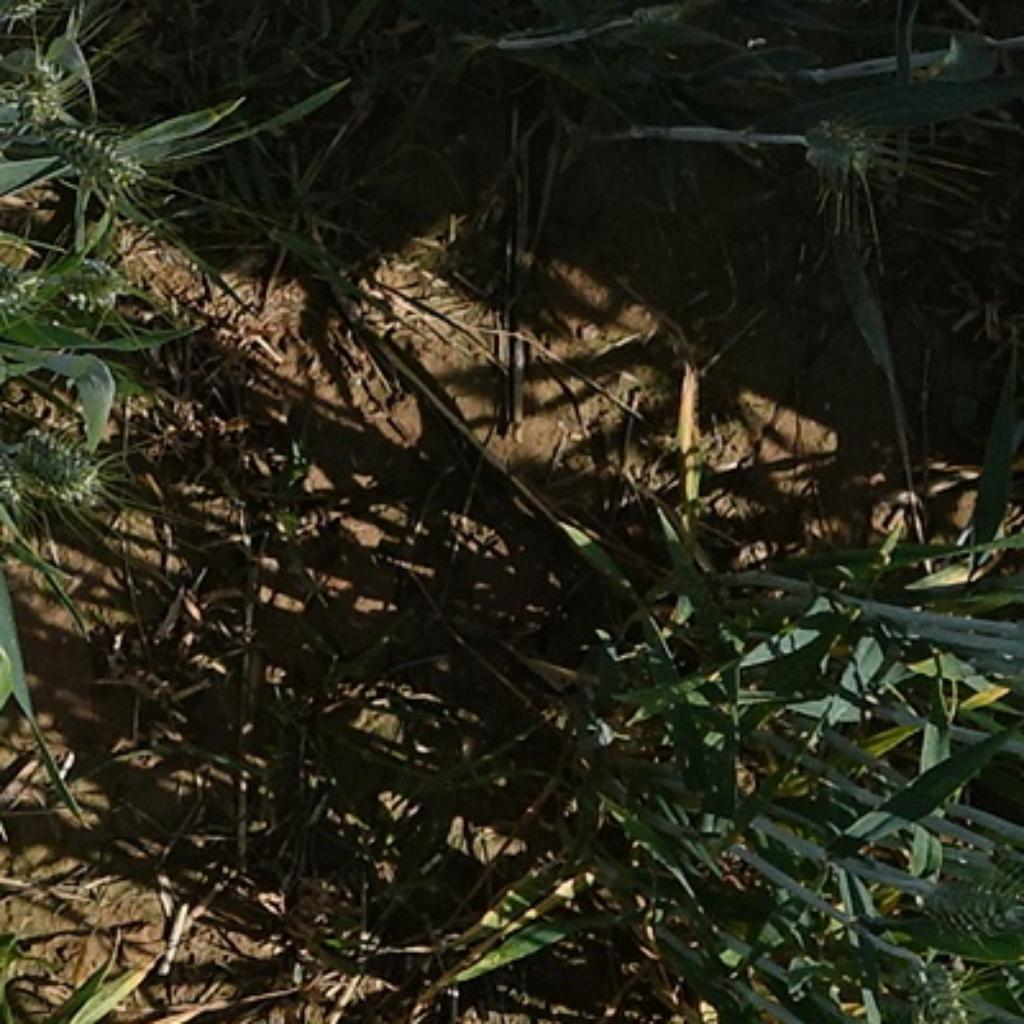0-0: (43, 112, 148, 194), (794, 109, 897, 191), (6, 425, 103, 510), (919, 864, 1017, 941), (39, 250, 134, 321), (901, 956, 983, 1024), (0, 57, 66, 139), (0, 256, 42, 335)
